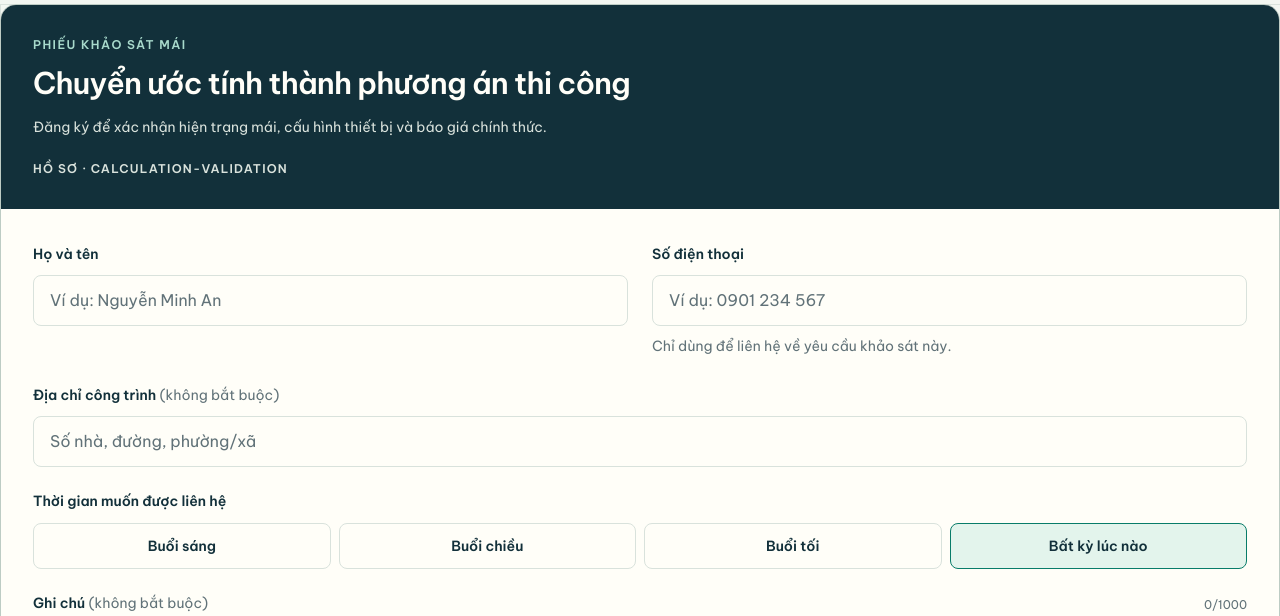
Test: SolarCalculator › hiển thị lỗi lead tại đúng trường trước khi gọi API
Type "A" into the field labelled "Họ và tên" at (330, 300), box [33, 275, 628, 326]
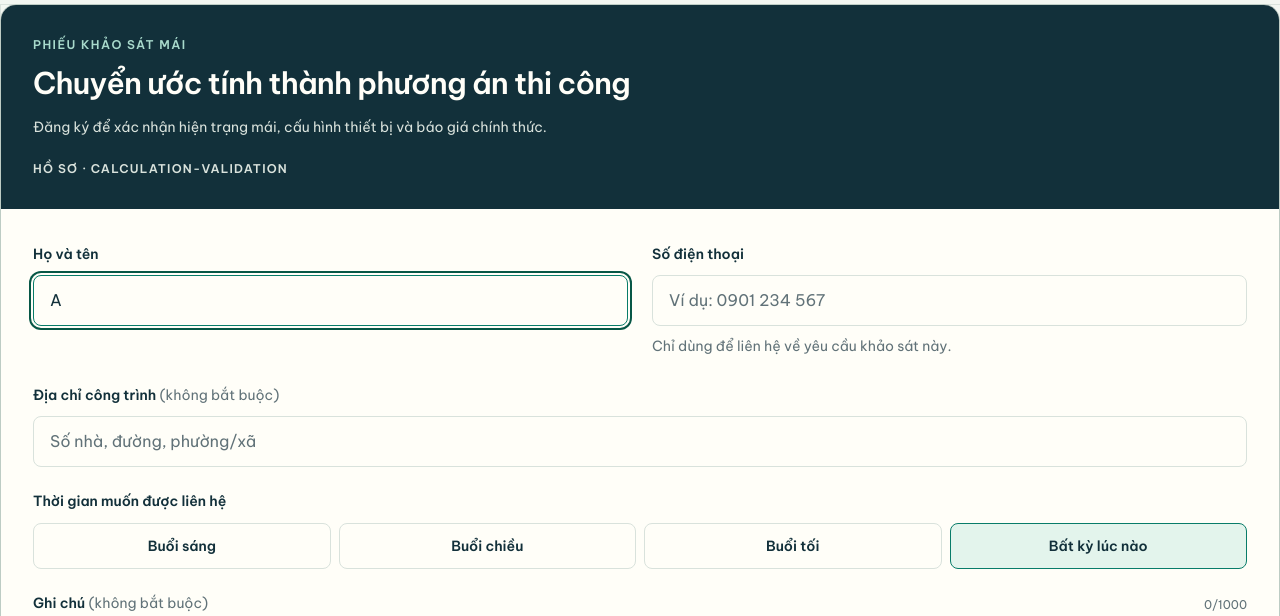
Type "123456" into the field labelled "Số điện thoại" at (950, 300), box [652, 275, 1247, 326]
(page scrolled)
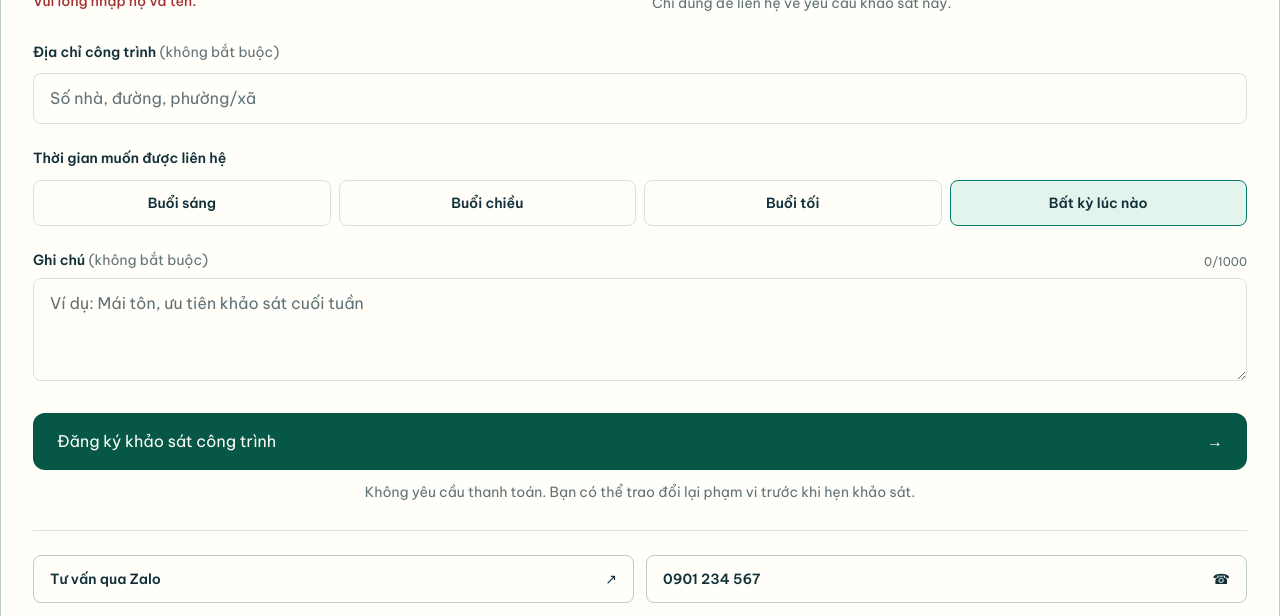
Click the button "Đăng ký khảo sát công trình →" at (167, 441), box [33, 413, 1247, 470]
(page scrolled)
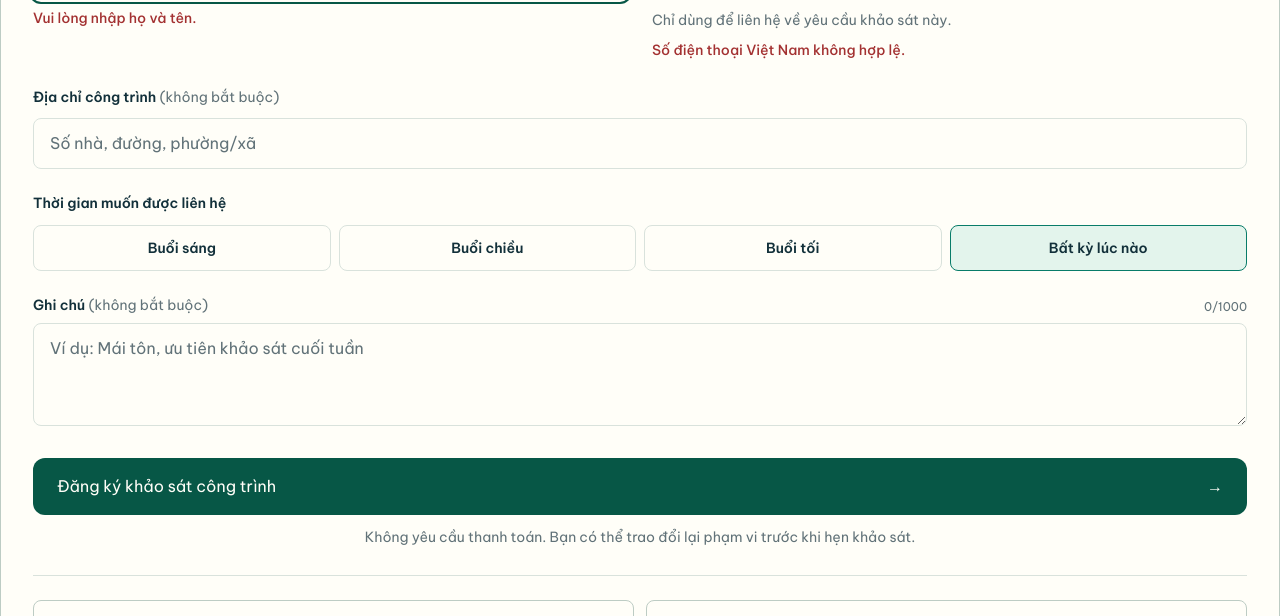
Now the text "Vui lòng nhập họ và tên." is shown, box [33, 9, 196, 27]
Now the text "Số điện thoại Việt Nam không hợp lệ." is shown, box [652, 41, 905, 59]
